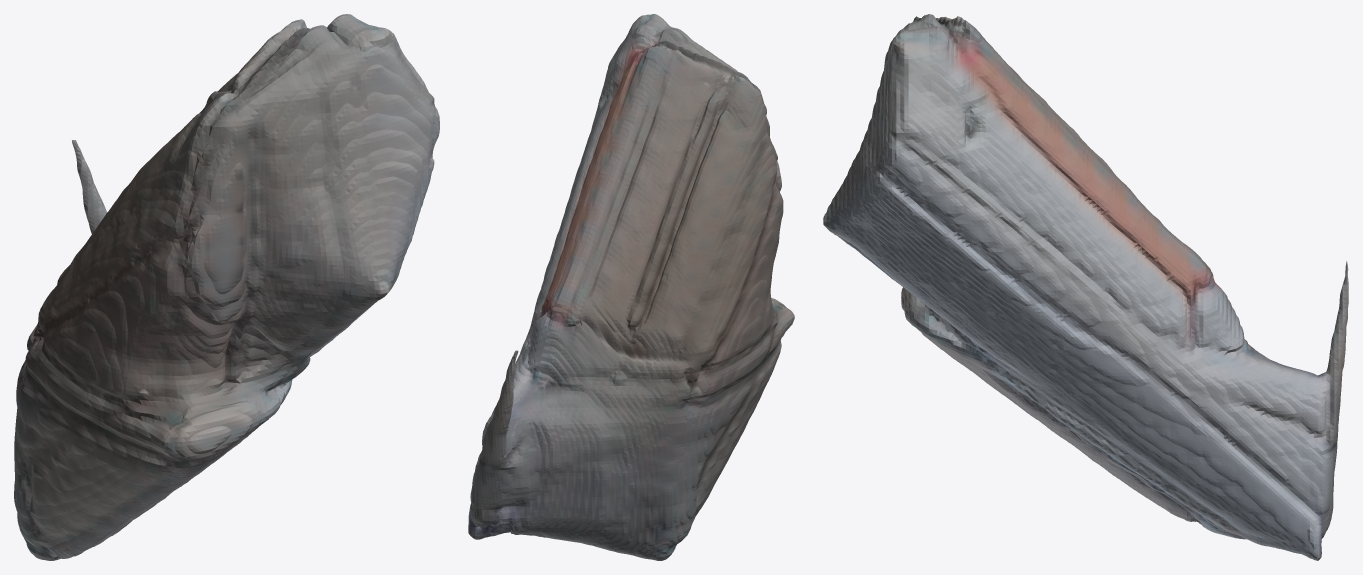
3 views of the same model, side by side, from view 1: azimuth 30°, elevation 25°; view 2: azimuth 150°, elevation 25°; view 3: azimuth 270°, elevation 25° (orthographic). The views are drawn at different scales.
Visible parts, largest first — view 1: world; view 2: world; view 3: world.
Boxes of the visible parts, x1,y1,x2,y2 form: world: [14, 14, 439, 560]; world: [468, 14, 794, 560]; world: [823, 14, 1348, 560].
Bounding box in the file's own units: 0.4993 × 1.01 × 0.8757.
